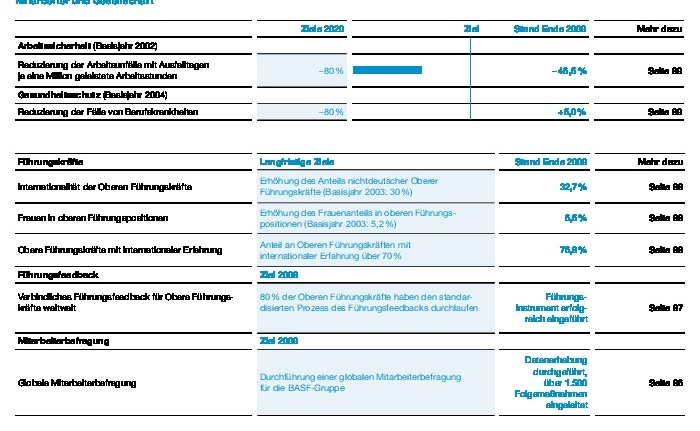table: (0, 0, 700, 431)
